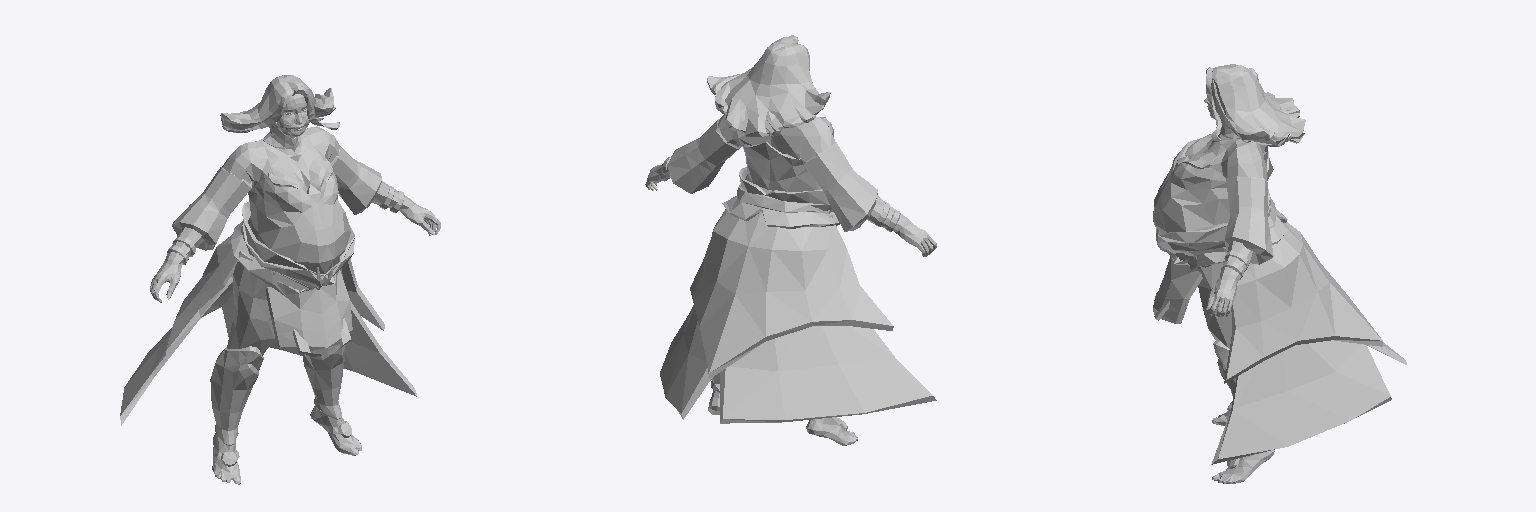
Rendered from lina_statue_000009.obj.
The picture shows the model from 3 angles: view 1: azimuth 30°, elevation 25°; view 2: azimuth 150°, elevation 25°; view 3: azimuth 270°, elevation 25°; orthographic projection.
Parts seen in each view (by area): view 1: lina_body.001_lina_body; view 2: lina_body.001_lina_body; view 3: lina_body.001_lina_body.
Boxes of the visible parts, box(x1,y1,x2,y2) form: lina_body.001_lina_body: box(120, 75, 440, 484); lina_body.001_lina_body: box(645, 35, 936, 445); lina_body.001_lina_body: box(1153, 64, 1406, 483).
Size of the model in its own units: 147 by 179 by 107.